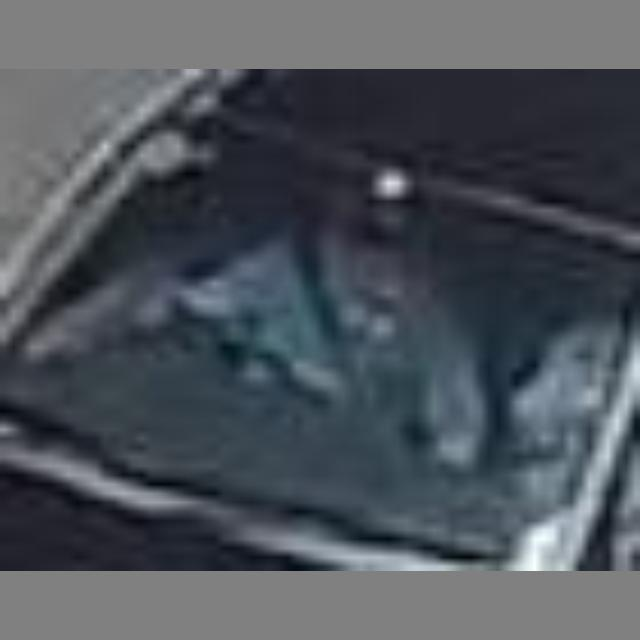pakai: (192, 188, 457, 444)
